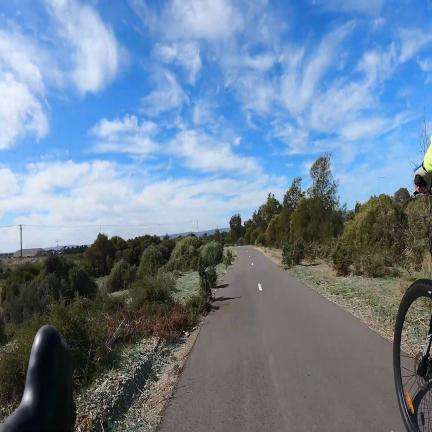Bike_Lane: (161, 246, 404, 432)
